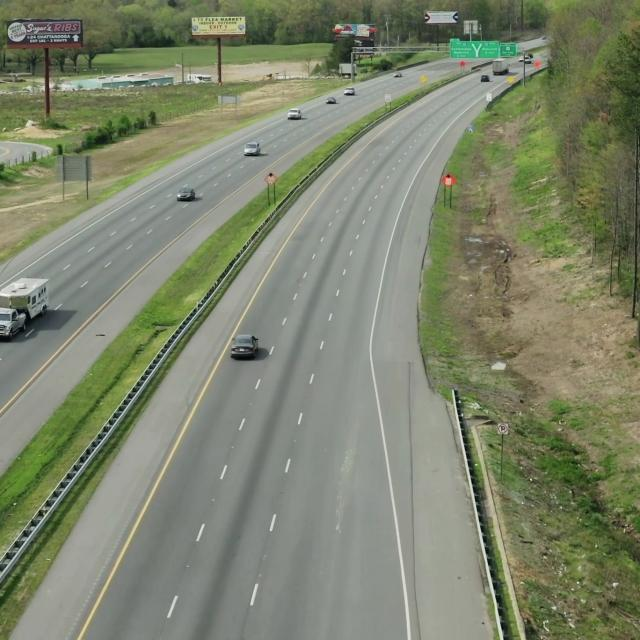Car: (0, 275, 51, 340), (229, 330, 262, 360), (174, 185, 199, 204)
